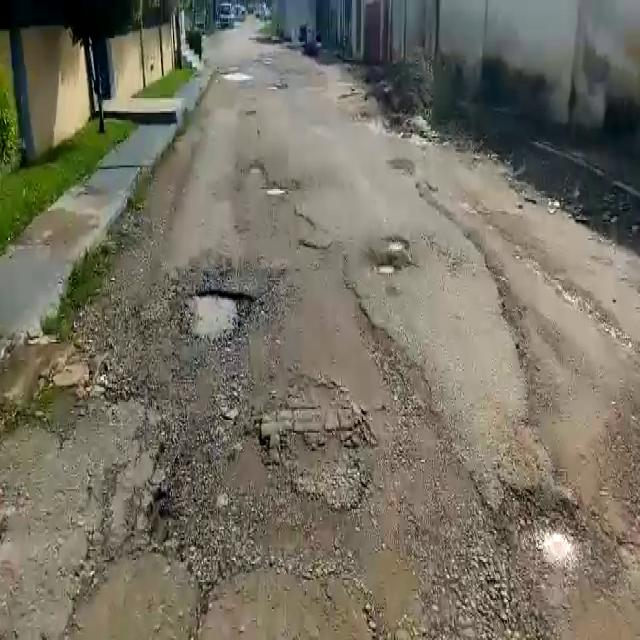Pothole: (184, 286, 257, 346), (388, 237, 410, 252), (378, 263, 398, 278), (266, 185, 288, 197), (250, 164, 264, 176)
